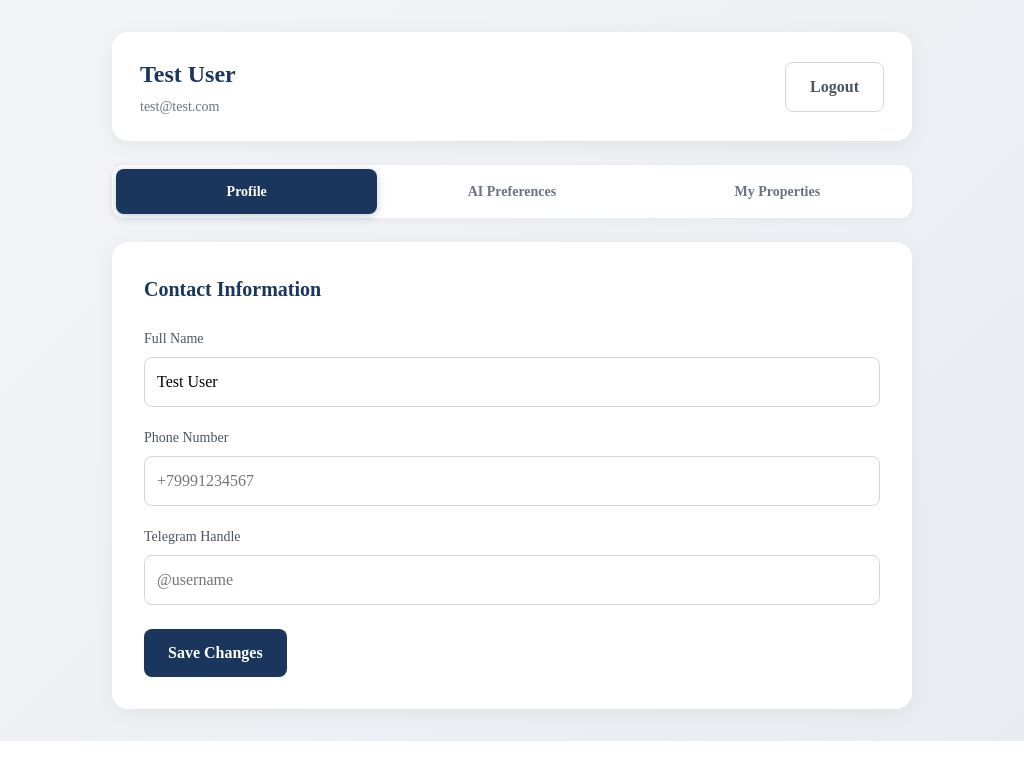
Scenario: Profile Page › Tabs › clears contact warning when switching to My Properties tab
What coordinates should you click on to do the following:
click the button "My Properties"
I would click on:
 (777, 192)
Its box is x1=647 y1=169 x2=908 y2=214.
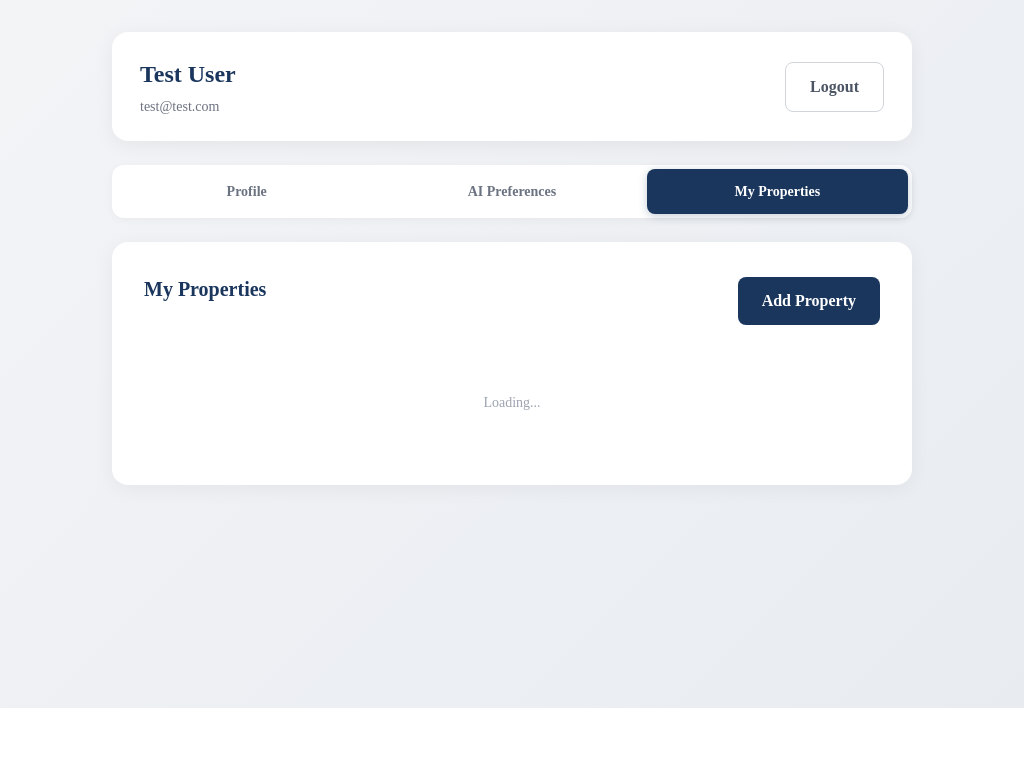
What coordinates should you click on to do the following:
click the button "Add Property"
I would click on:
 (809, 301)
Its box is x1=738 y1=277 x2=880 y2=325.
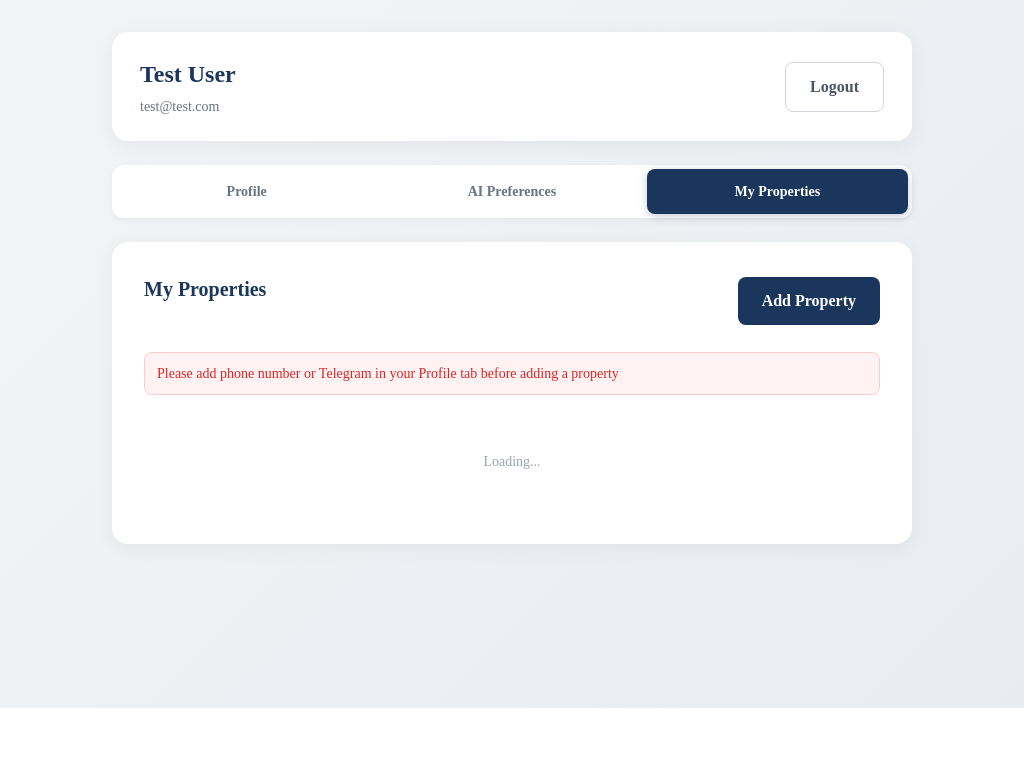
Expected: the text "Please add phone number" is shown, x1=157 y1=366 x2=619 y2=381
What coordinates should you click on to do the following:
click the button "My Properties"
I would click on:
 (777, 192)
Its box is x1=647 y1=169 x2=908 y2=214.
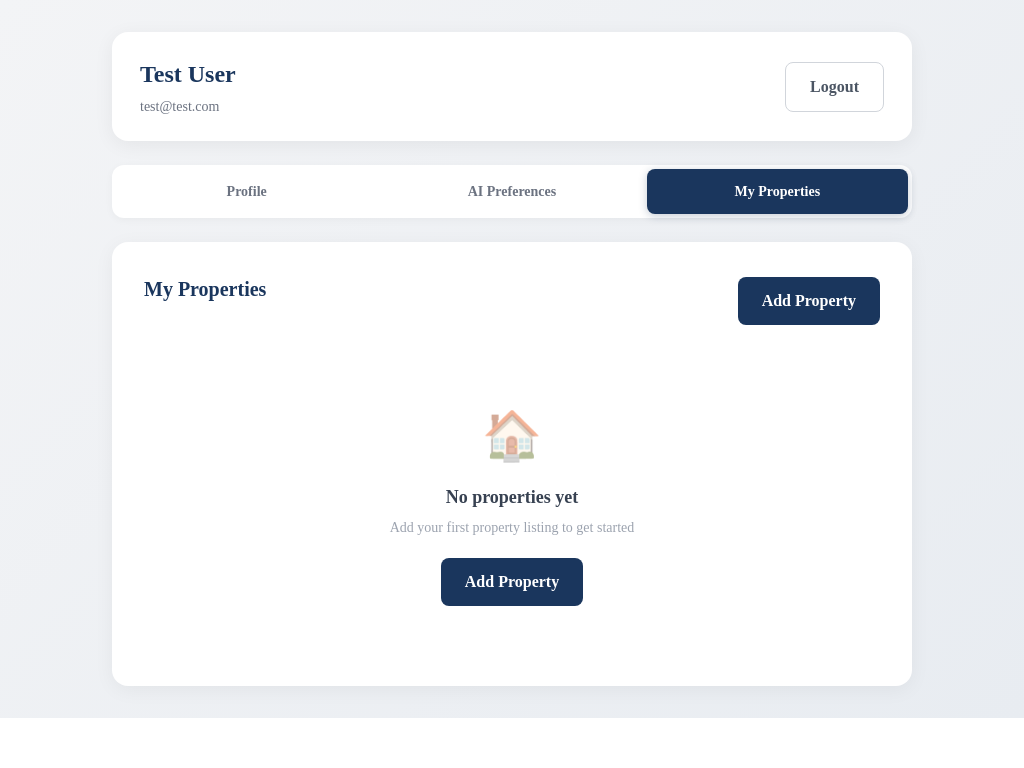
Expected: the text "Please add phone number" is gone
